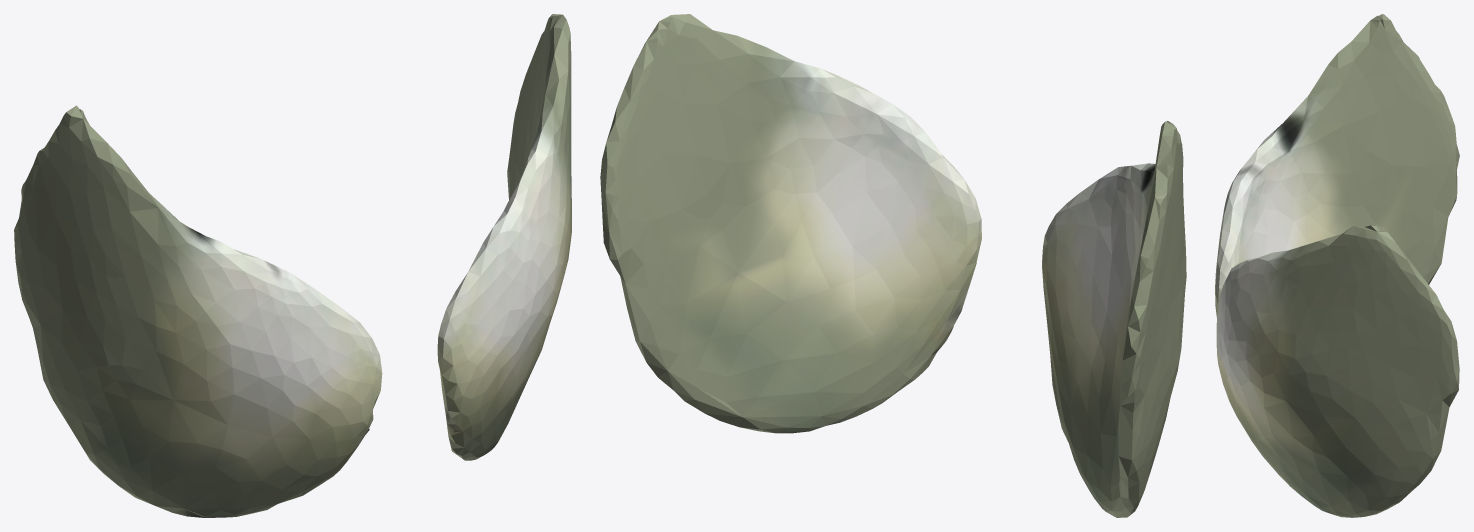
File: Eye1.OBJ
3 renders of one model, left to right at view 1: azimuth 30°, elevation 25°; view 2: azimuth 150°, elevation 25°; view 3: azimuth 270°, elevation 25°, orthographic. The views are drawn at different scales.
Parts seen in each view (by area): view 1: Group61949; view 2: Group61949; view 3: Group61949.
Part boxes in pixels (x1,y1,x2,y2): Group61949: [14, 14, 571, 517]; Group61949: [600, 14, 1186, 517]; Group61949: [1215, 14, 1459, 517].
Size of the model in its own units: 0.1893 by 0.1436 by 0.0928.
